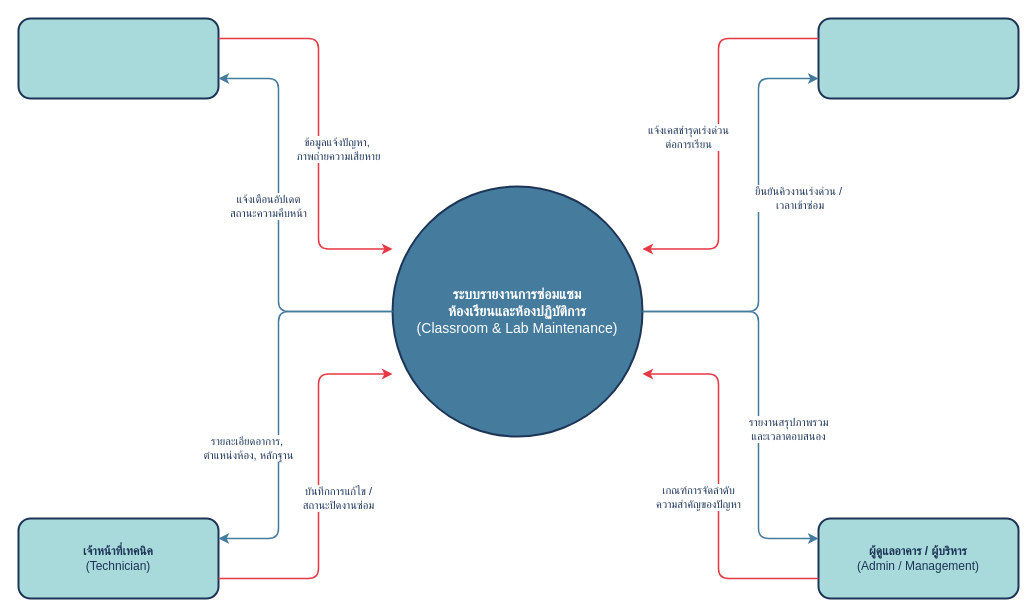
Some shapes in this 1036 by 616 pixel diagram are drawn without their labels. Each missing label, with the centre of its shape:
นักศึกษา / ผู้ใช้งานห้อง (Student / Room User): the point at 118,58
อาจารย์ผู้สอน (Instructor): the point at 918,58
